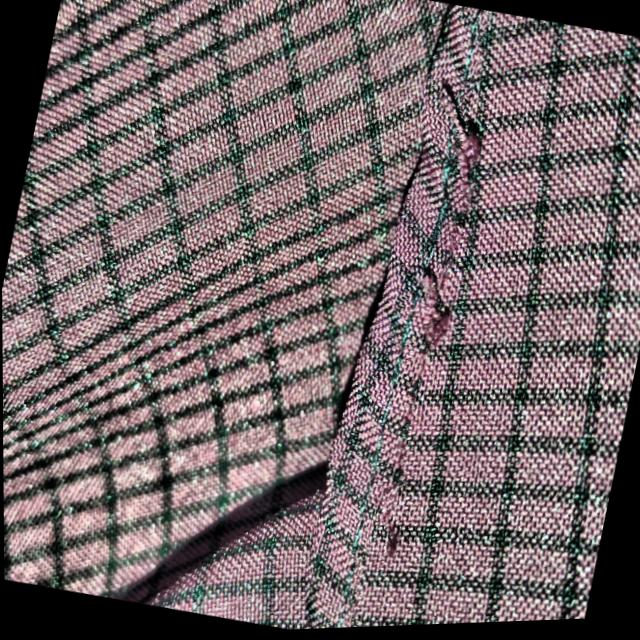Stitch: (410, 81, 512, 206), (389, 242, 475, 389)
